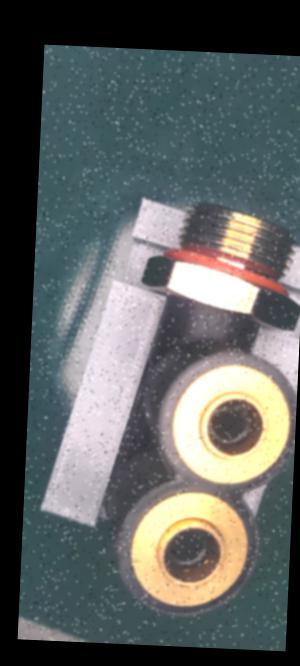off-centered: (205, 399, 258, 453)
white mark: (202, 313, 222, 326), (224, 315, 232, 326)
